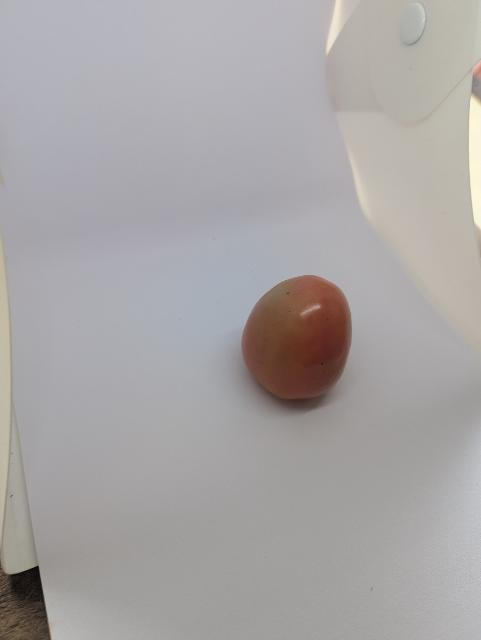turning: (237, 264, 361, 409)
